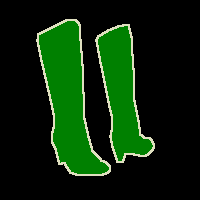shoe: (37, 19, 110, 175), (96, 24, 154, 162)
